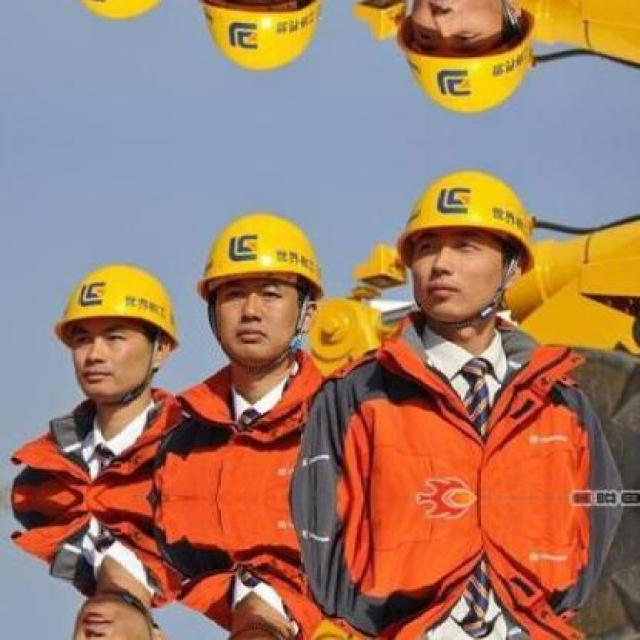helmet: (380, 152, 552, 343), (187, 195, 339, 386), (39, 245, 186, 417), (380, 0, 552, 133), (186, 0, 340, 89), (39, 578, 188, 637), (39, 0, 188, 40)
